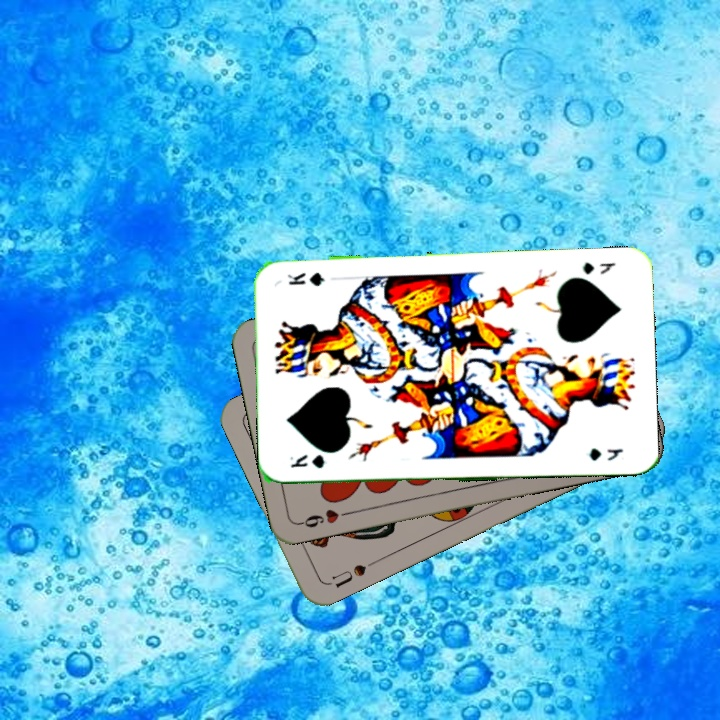GK: (286, 450, 327, 471), (579, 258, 618, 277)
H9: (295, 505, 354, 531)
SU: (324, 555, 379, 591)
